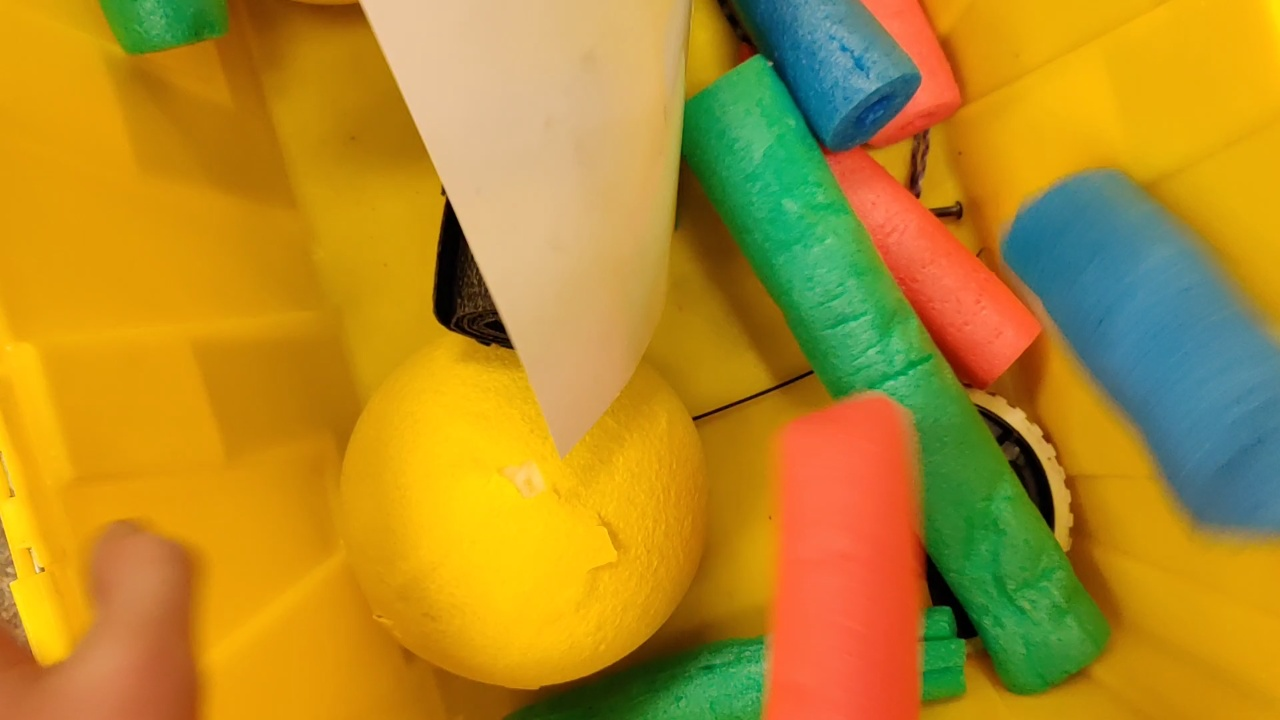Ball: (344, 322, 706, 689)
